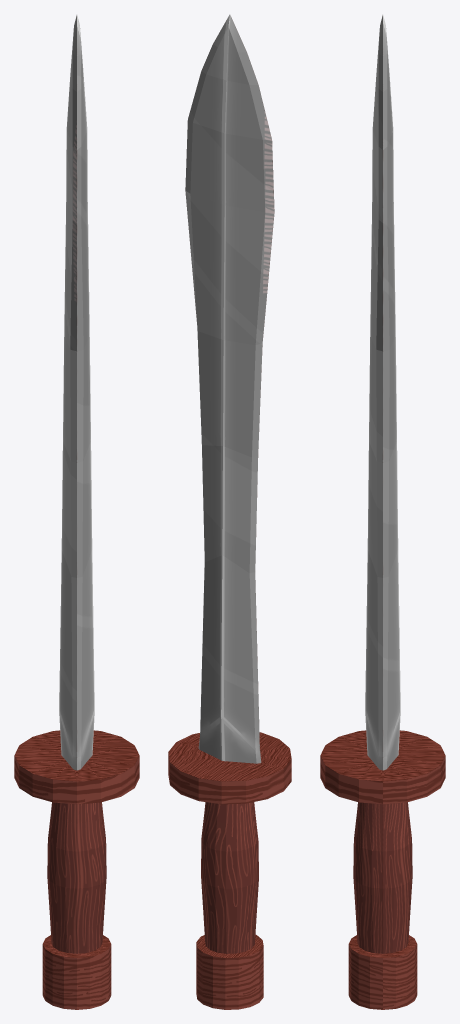
File: Sword.fbx
3 views of the same model, side by side, from view 1: azimuth 90°, elevation 25°; view 2: azimuth 150°, elevation 25°; view 3: azimuth 270°, elevation 25° (orthographic).
Parts seen in each view (by area): view 1: Short Sword; view 2: Short Sword; view 3: Short Sword.
Boxes of the visible parts, <box> form: Short Sword: <box>14,15,139,1009</box>; Short Sword: <box>168,14,291,1009</box>; Short Sword: <box>320,15,445,1009</box>.
Bounding box in the file's own units: 6.72 × 58.56 × 6.76.
1 material, 1 textured.
